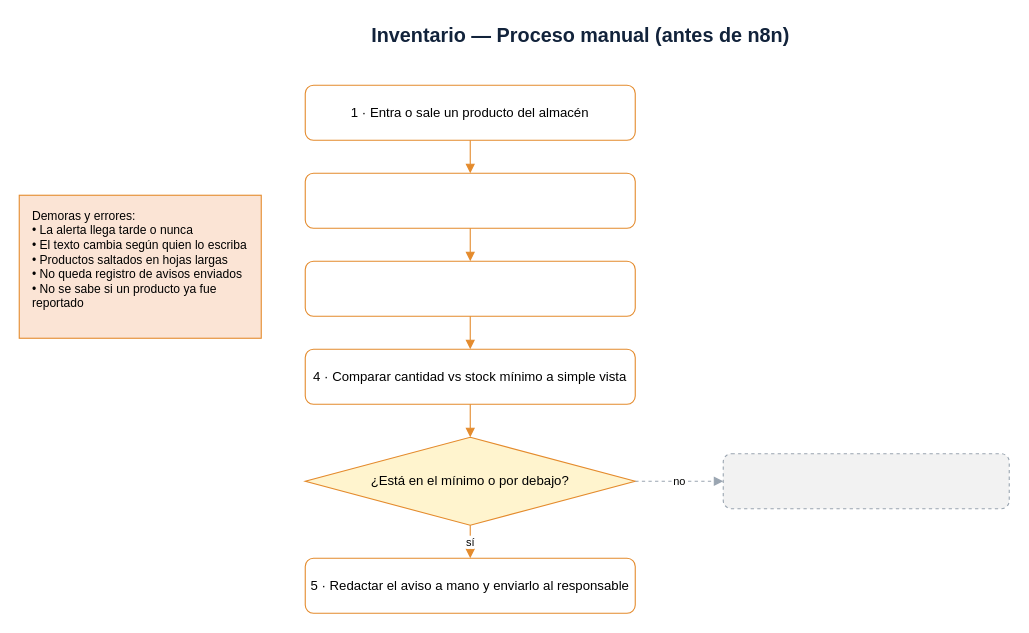
This 1029x633 diagram has some shape labels left out. The shapes that lost their labels are listed below. From the top down, each one's centre as x and y in pixels, then its label:
At (469,200): "2 · Alguien actualiza la hoja de Google Sheets a mano".
At (469,288): "3 · Revisión del stock cuando alguien tiene tiempo (sin horario fijo)".
At (865,481): "No se hace nada: se sigue revisando en la próxima vuelta".
